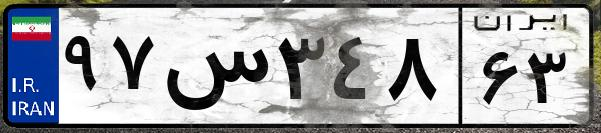3: (270, 28, 330, 110), (525, 38, 570, 115)
4: (330, 28, 385, 110)
6: (475, 38, 525, 113)
7: (110, 28, 158, 98)
8: (385, 28, 445, 110)
9: (57, 26, 110, 100)
س: (158, 20, 270, 120)
